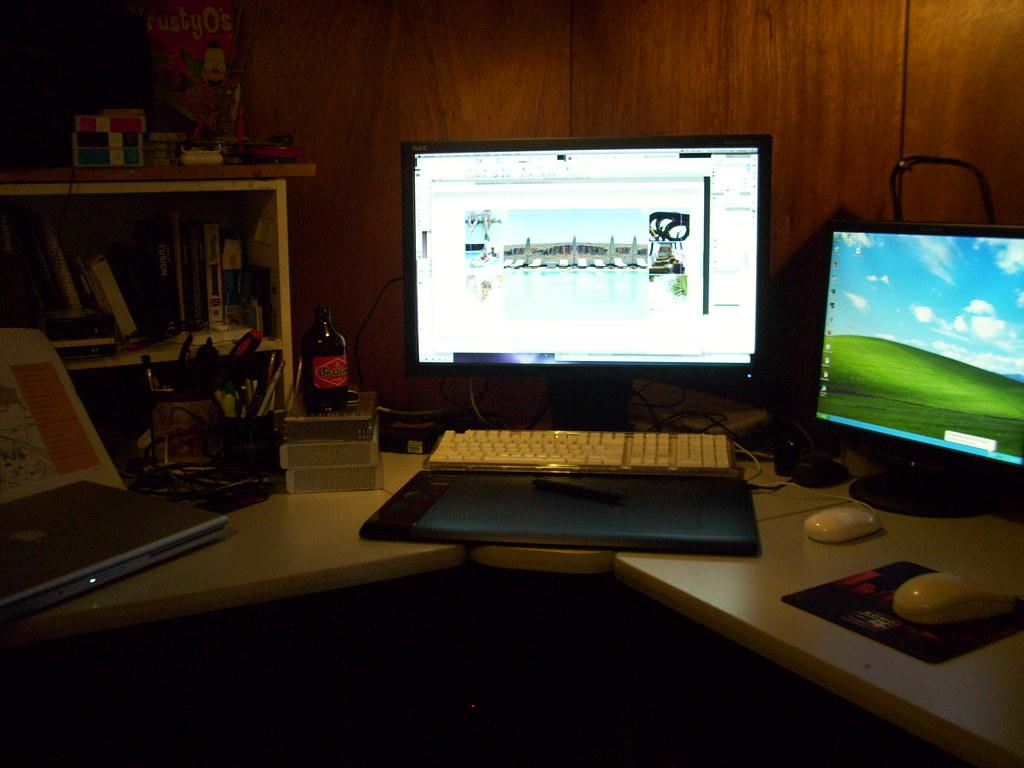computer: (399, 133, 773, 476), (810, 218, 1024, 519)
